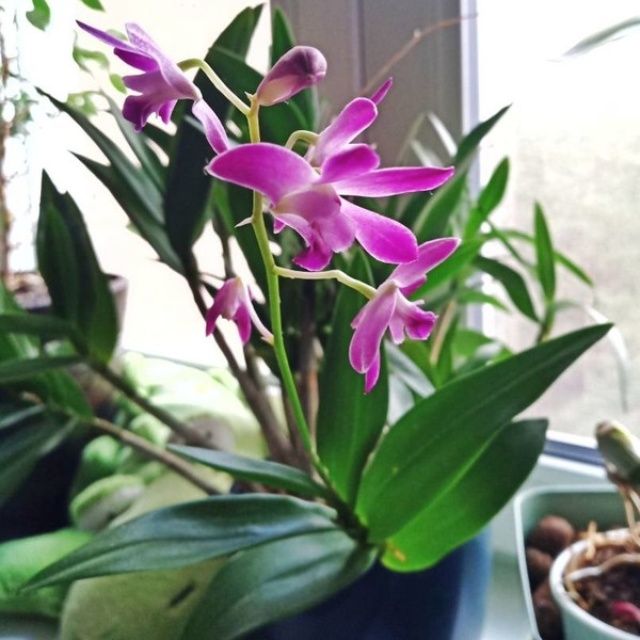obstacle: (113, 48, 565, 625)
